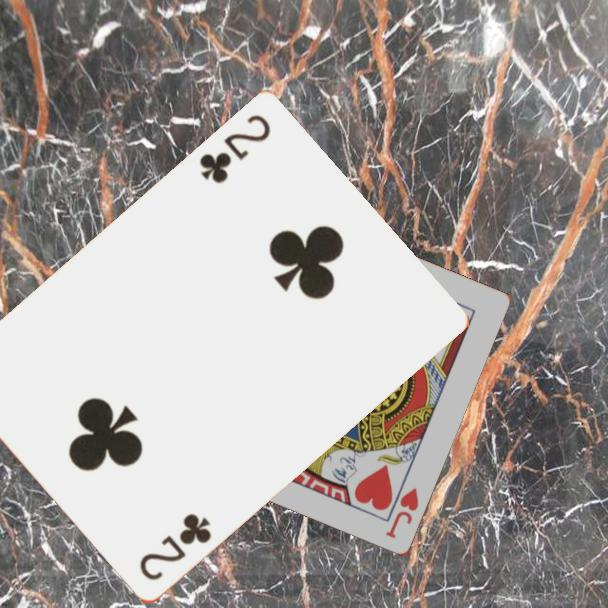c02: (195, 111, 274, 188), (135, 510, 215, 584)
h11: (382, 484, 422, 542)
